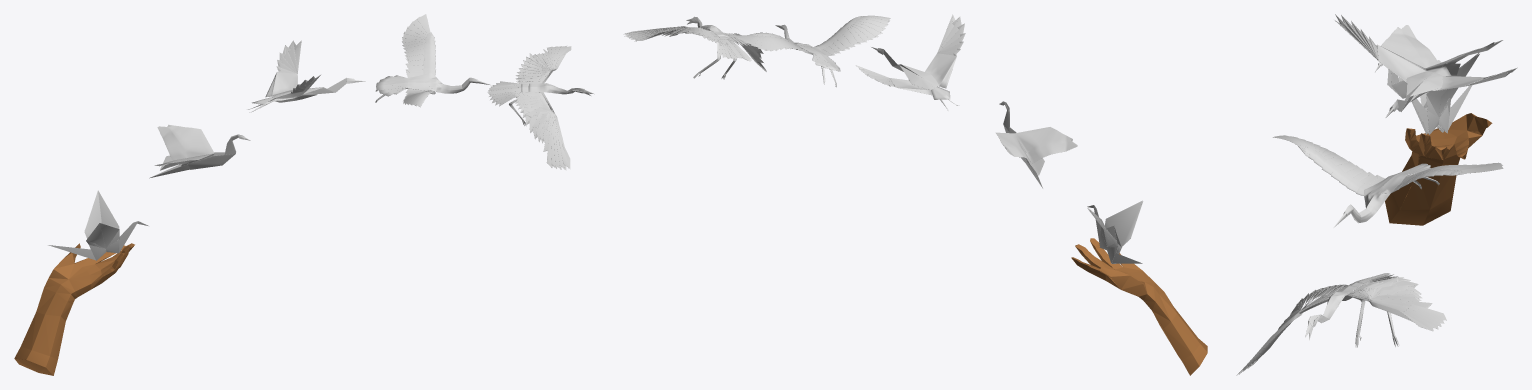
File: origami_crane_study.glb
3 renders of one model, left to right at view 1: azimuth 30°, elevation 25°; view 2: azimuth 150°, elevation 25°; view 3: azimuth 270°, elevation 25°, orthographic. The views are drawn at different scales.
Parts seen in each view (by area): view 1: Hand, Crane.005, Crane.004, Crane.002, Crane.003, Crane.001; view 2: Hand, Crane.004, Crane.003, Crane.002, Crane.005, Crane.001; view 3: Hand, Crane.005, Crane.004, Crane.003, Crane.002, Crane.001.
Boxes of the visible parts, x1,y1,x2,y2 form: Hand: [14, 243, 134, 375]; Crane.005: [487, 46, 594, 170]; Crane.004: [375, 14, 490, 107]; Crane.002: [149, 124, 250, 178]; Crane.003: [247, 40, 365, 112]; Crane.001: [48, 190, 148, 260]; Hand: [1071, 238, 1207, 375]; Crane.004: [728, 15, 890, 87]; Crane.003: [855, 14, 965, 110]; Crane.002: [995, 101, 1077, 188]; Crane.005: [623, 16, 766, 79]; Crane.001: [1087, 200, 1143, 263]; Hand: [1385, 113, 1492, 225]; Crane.005: [1236, 273, 1446, 375]; Crane.004: [1272, 135, 1503, 227]; Crane.003: [1334, 14, 1517, 117]; Crane.002: [1375, 25, 1502, 98]; Crane.001: [1411, 53, 1479, 134].
Size of the model in its own units: 2.17 by 0.9645 by 0.6188.
